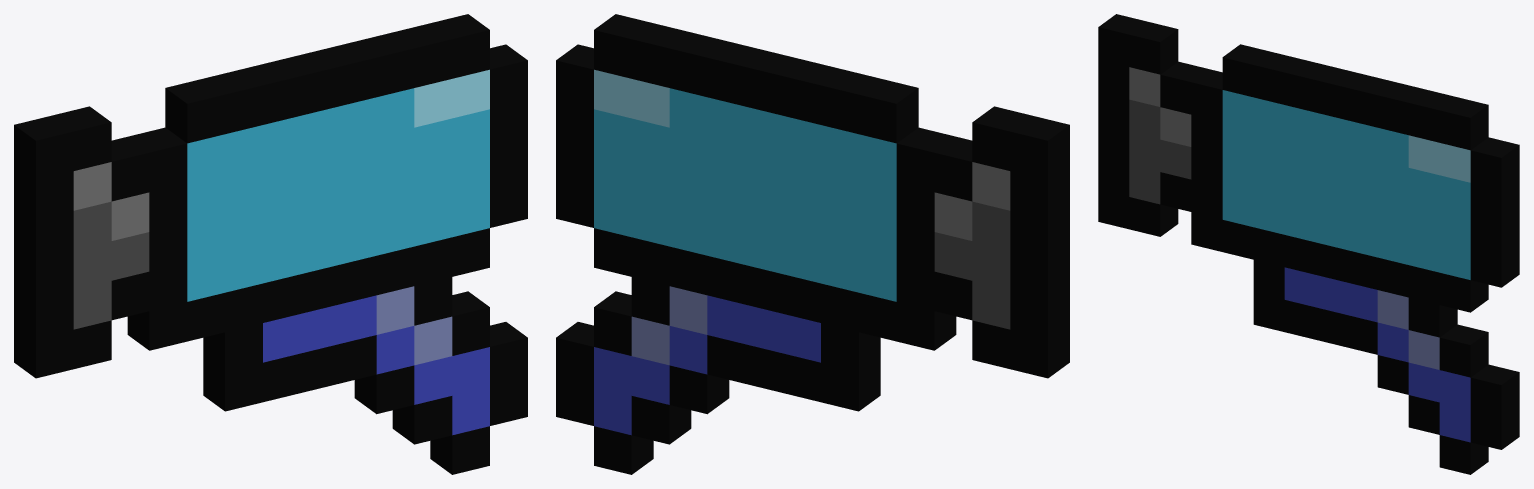
The model's file is Light Blue Paintball Gun.glb.
3 renders of one model, left to right at view 1: azimuth 30°, elevation 25°; view 2: azimuth 150°, elevation 25°; view 3: azimuth 330°, elevation 25°, orthographic. The views are drawn at different scales.
Visible parts, largest first — view 1: generated(Clone); view 2: generated(Clone); view 3: generated(Clone).
Boxes of the visible parts, bbox=[...] form: generated(Clone): bbox=[14, 14, 527, 474]; generated(Clone): bbox=[556, 14, 1069, 474]; generated(Clone): bbox=[1098, 14, 1519, 474].
Size of the model in its own units: 13 by 11 by 1.
1 material, 1 textured.
